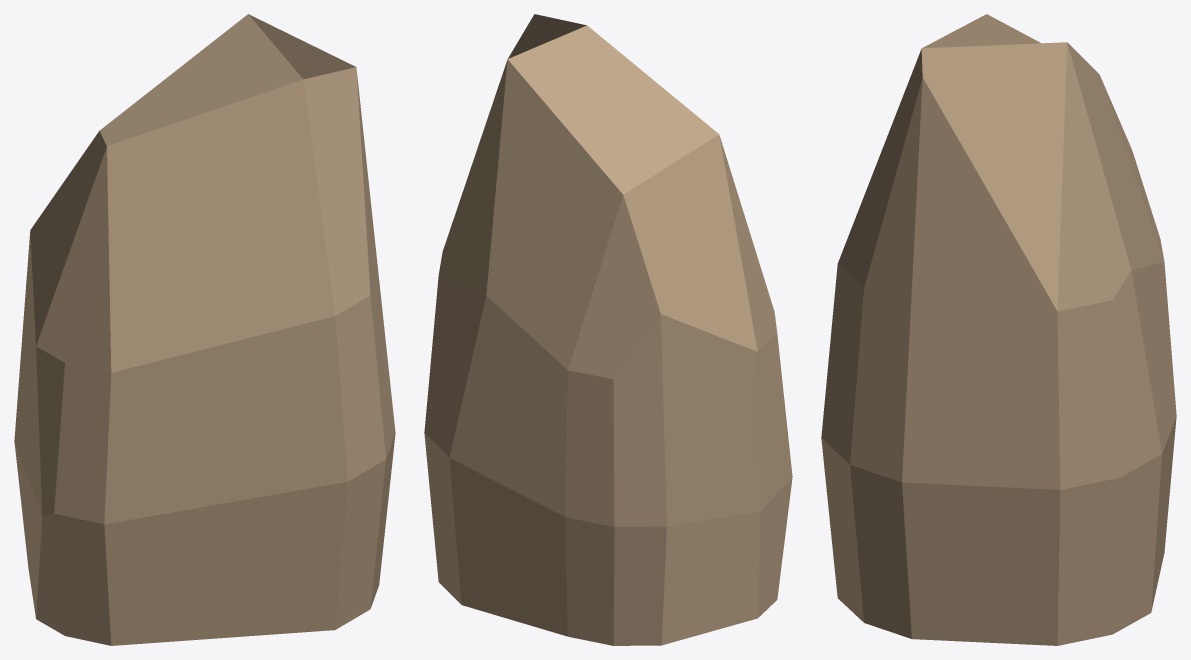
Rendered from rock_6.FBX.
The picture shows the model from 3 angles, left to right: view 1: azimuth 30°, elevation 25°; view 2: azimuth 150°, elevation 25°; view 3: azimuth 270°, elevation 25°; orthographic projection. The views are drawn at different scales.
Visible parts, largest first — view 1: rock_6; view 2: rock_6; view 3: rock_6.
Part boxes in pixels (x1,y1,x2,y2): rock_6: [14, 14, 395, 645]; rock_6: [424, 14, 792, 645]; rock_6: [821, 14, 1176, 645].
Size of the model in its own units: 1256 by 1953 by 1109.
